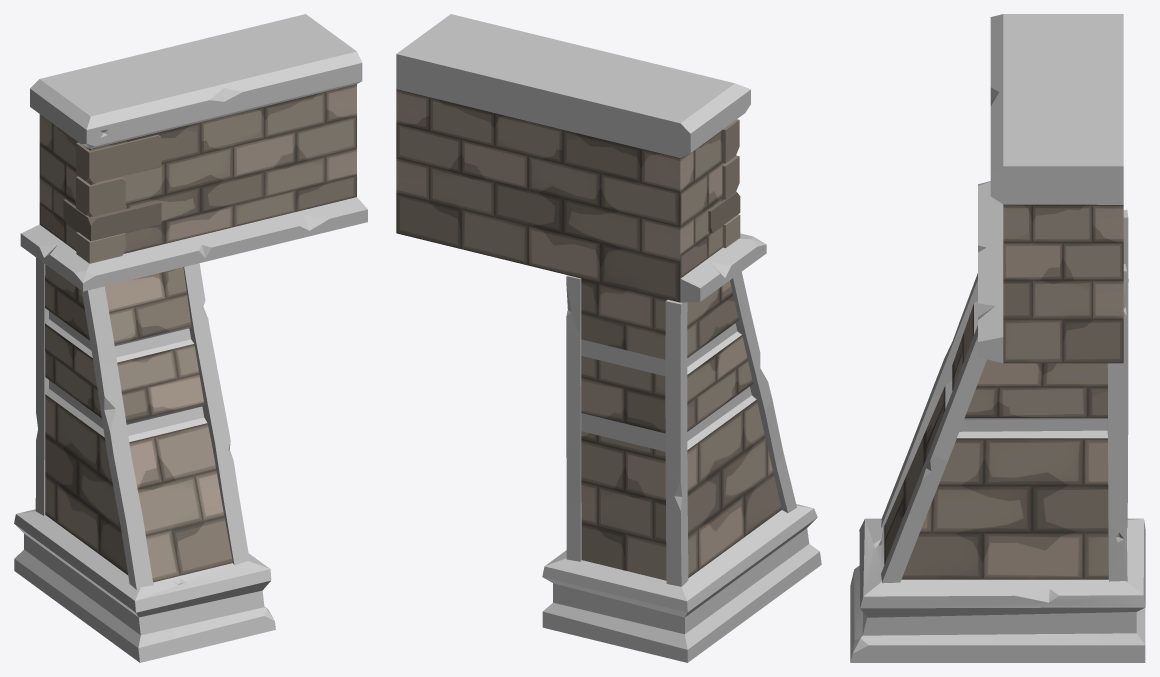
Rendered from SM_Bld_Tunnel_Straight_End_01.fbx.
The picture shows the model from 3 angles, left to right: view 1: azimuth 30°, elevation 25°; view 2: azimuth 150°, elevation 25°; view 3: azimuth 270°, elevation 25°; orthographic projection. The views are drawn at different scales.
Visible parts, largest first — view 1: SM_Bld_Tunnel_Straight_End_01; view 2: SM_Bld_Tunnel_Straight_End_01; view 3: SM_Bld_Tunnel_Straight_End_01.
Part boxes in pixels (x1,y1,x2,y2): SM_Bld_Tunnel_Straight_End_01: (14,14,367,662); SM_Bld_Tunnel_Straight_End_01: (396,14,821,662); SM_Bld_Tunnel_Straight_End_01: (850,14,1145,662).
Bounding box in the file's own units: 401 × 666 × 307.
